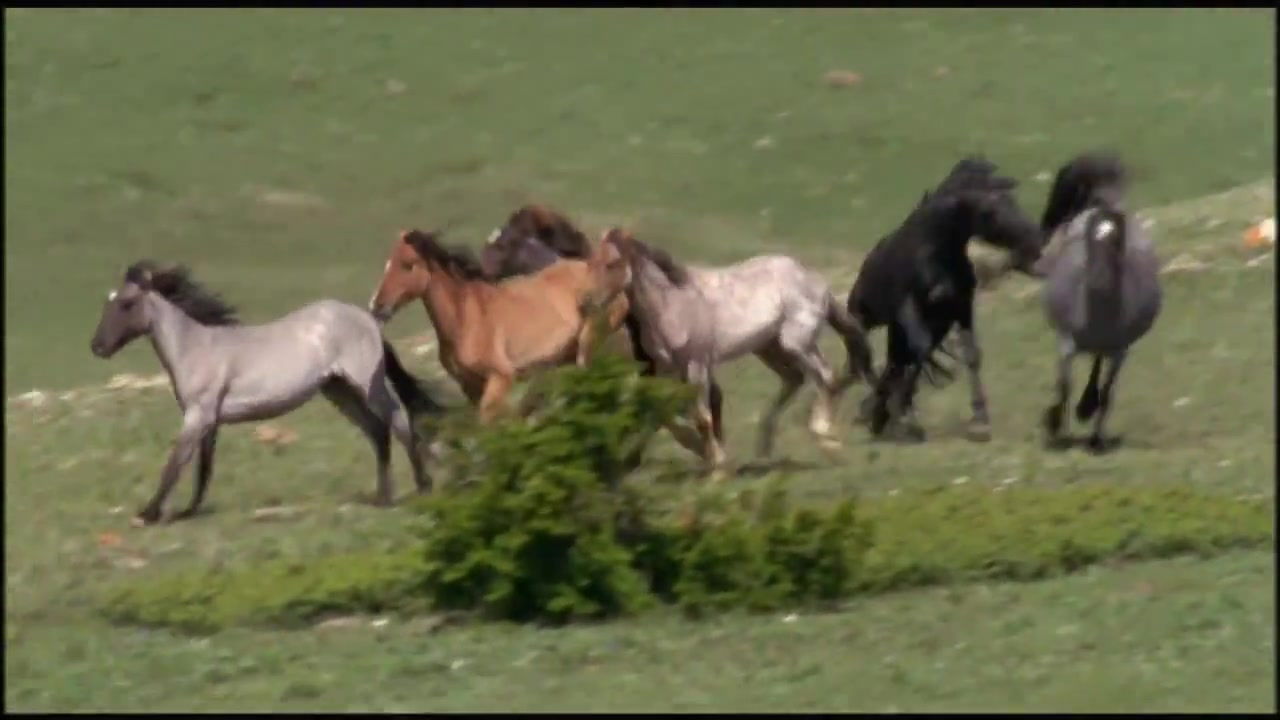horse: (88, 263, 452, 527)
